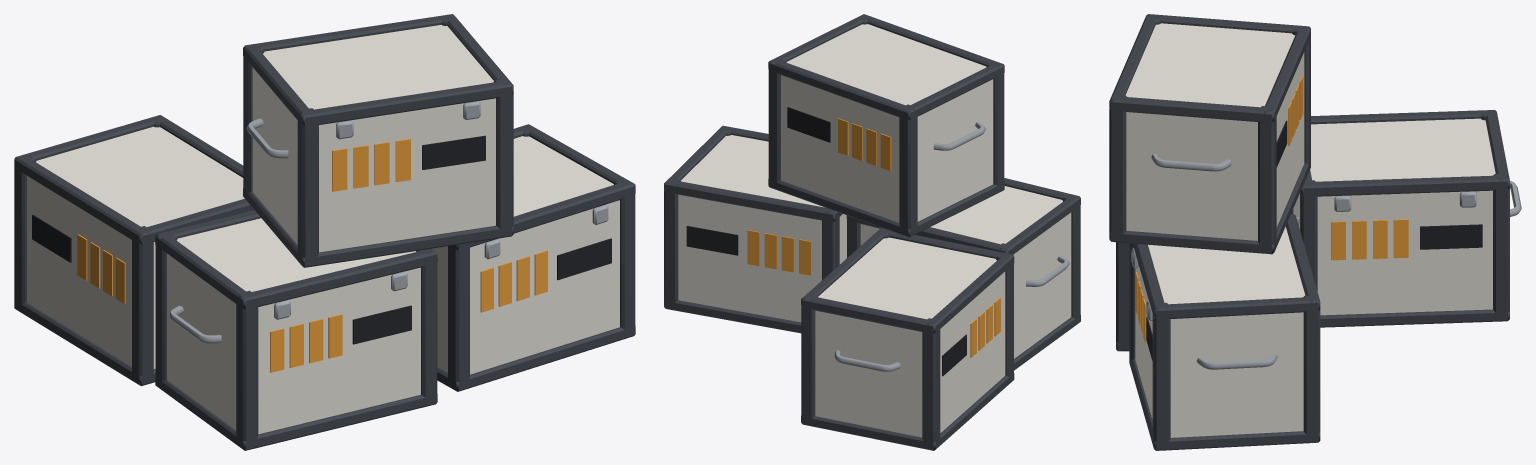
Rendered from crate_stack_v4.glb.
The picture shows the model from 3 angles, left to right: view 1: azimuth 30°, elevation 25°; view 2: azimuth 150°, elevation 25°; view 3: azimuth 270°, elevation 25°; orthographic projection. The views are drawn at different scales.
Visible parts, largest first — view 1: crate_2, crate_0, crate_3, crate_1; view 2: crate_2, crate_3, crate_1, crate_0; view 3: crate_2, crate_3, crate_1, crate_0.
Boxes of the visible parts, x1=… form: crate_2: x1=243, y1=14, x2=513, y2=267; crate_0: x1=155, y1=210, x2=437, y2=450; crate_3: x1=14, y1=115, x2=254, y2=386; crate_1: x1=432, y1=124, x2=635, y2=391; crate_2: x1=768, y1=14, x2=1004, y2=237; crate_3: x1=801, y1=228, x2=1014, y2=450; crate_1: x1=664, y1=125, x2=846, y2=333; crate_0: x1=846, y1=178, x2=1080, y2=370; crate_2: x1=1109, y1=14, x2=1310, y2=254; crate_3: x1=1291, y1=110, x2=1521, y2=327; crate_1: x1=1129, y1=214, x2=1320, y2=450; crate_0: x1=1116, y1=242, x2=1129, y2=351.
Bounding box in the file's own units: 2.31 × 1.5 × 1.97.
